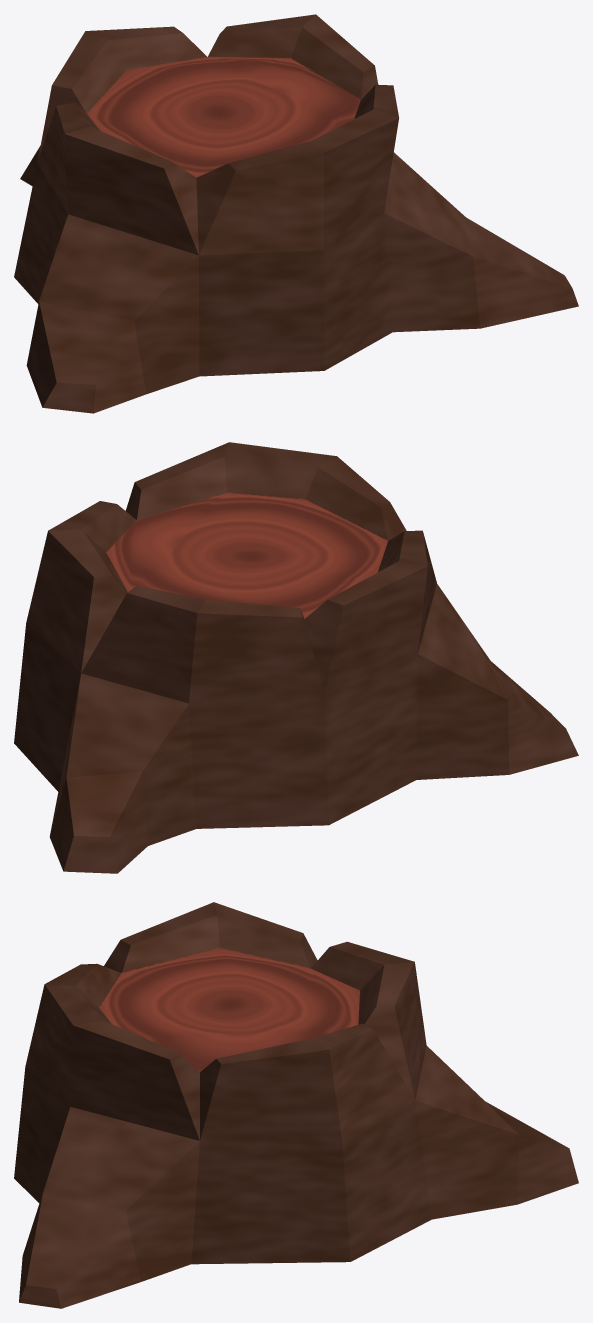
Rendered from Tree Trunk.fbx.
3 renders of one model, top to bottom at view 1: azimuth 30°, elevation 25°; view 2: azimuth 150°, elevation 25°; view 3: azimuth 270°, elevation 25°, orthographic. The views are drawn at different scales.
Parts seen in each view (by area): view 1: Tree Trunk.002; view 2: Tree Trunk.002; view 3: Tree Trunk.002.
Part boxes in pixels (box(x1,y1,x2,y2)): Tree Trunk.002: box(14, 14, 578, 413); Tree Trunk.002: box(14, 442, 578, 873); Tree Trunk.002: box(14, 902, 578, 1308).
Bounding box in the file's own units: 332 × 131 × 320.
